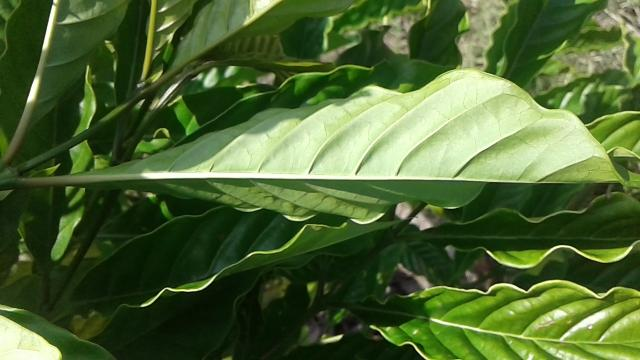healthy: (54, 64, 636, 229)
